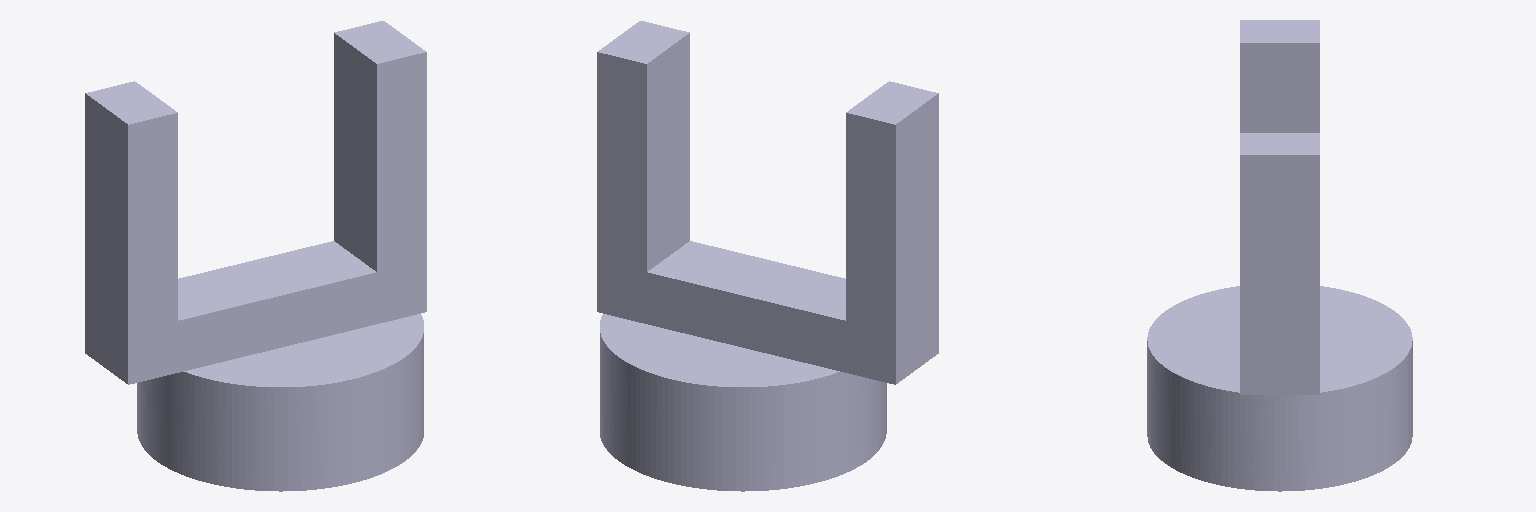
robot.urdf — my_robot_arm:
<?xml version="1.0" ?>
<robot name="my_robot_arm">
  <!--Generated by CROSS, a ROS Workbench for FreeCAD (https://github.com/galou/freecad.cross)-->
  <link name="base_link">
    <visual>
      <!--base_link_part/Body.-->
      <origin rpy="0.0 -0.0 0.0" xyz="0.0 0.0 0.0"/>
      <geometry>
        <mesh filename="package://my_robot_arm/meshes/Unnamed_base_link_body.dae"/>
      </geometry>
    </visual>
    <collision>
      <!--base_link_part/Body.-->
      <origin rpy="0.0 -0.0 0.0" xyz="0.0 0.0 0.0"/>
      <geometry>
        <mesh filename="package://my_robot_arm/meshes/Unnamed_base_link_body.dae"/>
      </geometry>
    </collision>
    <inertial>
      <mass value="0.0"/>
      <origin rpy="0.0 -0.0 0.0" xyz="0.0 0.0 0.0"/>
      <inertia ixx="0.0" ixy="0.0" ixz="0.0" iyy="0.0" iyz="0.0" izz="0.0"/>
    </inertial>
  </link>
  <link name="finger_link">
    <visual>
      <!--finger_link_part/Body001.-->
      <origin rpy="0.0 -0.0 0.0" xyz="0.0 0.0 0.0"/>
      <geometry>
        <mesh filename="package://my_robot_arm/meshes/Unnamed_finger_link_body.dae"/>
      </geometry>
    </visual>
    <collision>
      <!--finger_link_part/Body001.-->
      <origin rpy="0.0 -0.0 0.0" xyz="0.0 0.0 0.0"/>
      <geometry>
        <mesh filename="package://my_robot_arm/meshes/Unnamed_finger_link_body.dae"/>
      </geometry>
    </collision>
    <inertial>
      <mass value="0.0"/>
      <origin rpy="0.0 -0.0 0.0" xyz="0.0 0.0 0.0"/>
      <inertia ixx="0.0" ixy="0.0" ixz="0.0" iyy="0.0" iyz="0.0" izz="0.0"/>
    </inertial>
  </link>
  <joint name="finger_joint" type="prismatic">
    <parent link="base_link"/>
    <child link="finger_link"/>
    <origin rpy="0.0 -0.0 0.0" xyz="-0.06 0.0 0.06"/>
    <axis xyz="1 0 0"/>
    <limit effort="1000.0" lower="0.0" upper="0.08" velocity="0.5"/>
  </joint>
</robot>

--- Facts derived from the render (not from the file) ---
Views: 3 orthographic renders of the robot side by side, from view 1: azimuth 30°, elevation 25°; view 2: azimuth 150°, elevation 25°; view 3: azimuth 270°, elevation 25°.
Robot: my_robot_arm — 2 links, 1 joints (1 prismatic); root link base_link; default pose: every joint at zero.
Visible links, largest first — view 1: base_link, finger_link; view 2: base_link, finger_link; view 3: base_link, finger_link.
Link boxes in pixels (left/top/right/bottom): base_link: left=85, top=21, right=426, bottom=491; finger_link: left=85, top=81, right=177, bottom=332; base_link: left=597, top=21, right=938, bottom=491; finger_link: left=846, top=81, right=938, bottom=332; base_link: left=1147, top=133, right=1412, bottom=491; finger_link: left=1240, top=20, right=1319, bottom=132.
Bounding box of the posed robot: 0.12 × 0.1 × 0.14 m (x, y, z).
2 mesh visuals loaded from 2 distinct referenced files (2 Collada DAE).
